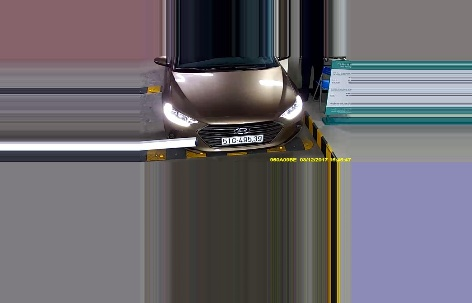plate: (218, 133, 268, 146)
